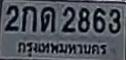2: (4, 4, 18, 30), (62, 6, 74, 31)
3: (108, 8, 120, 33)
6: (92, 7, 104, 32)
8: (77, 7, 89, 31)
A01: (21, 5, 36, 31)
A20: (40, 6, 54, 31)
BKK: (15, 38, 108, 59)
